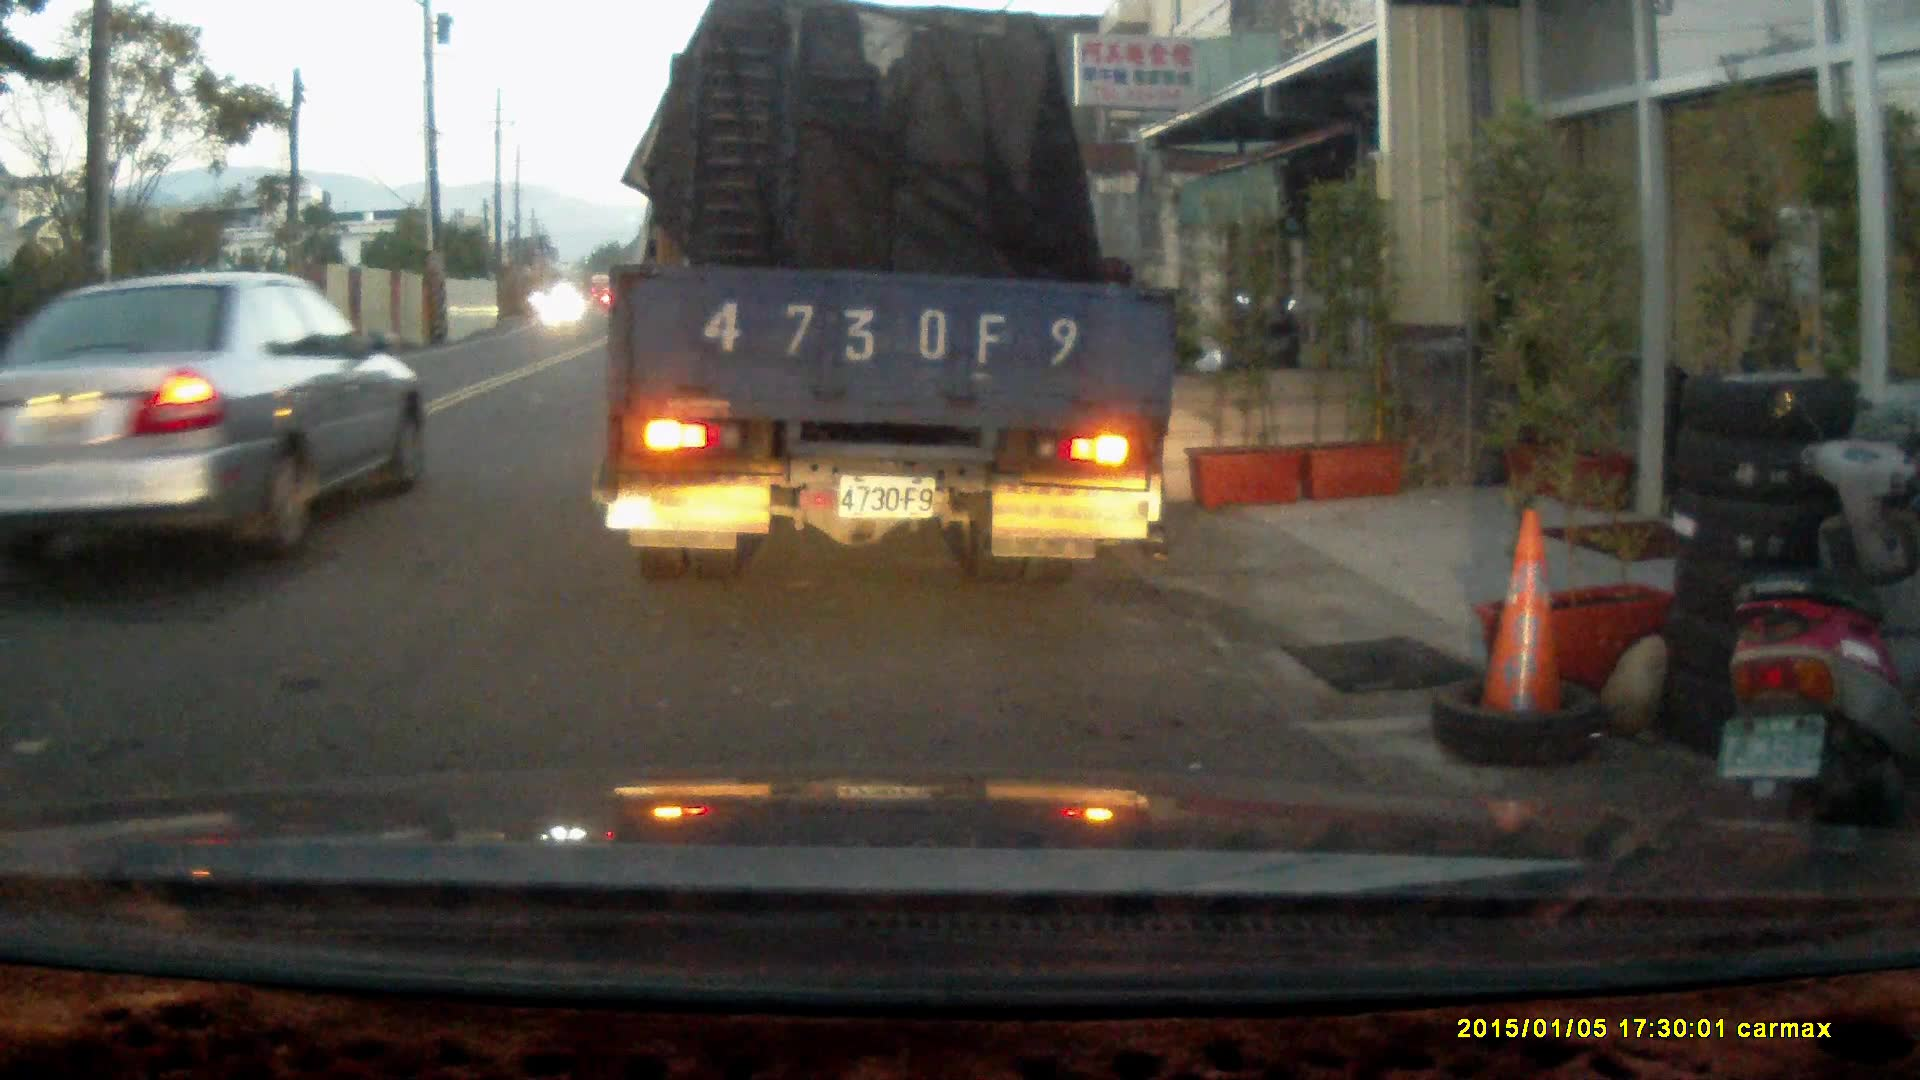pedestrian: (1727, 226, 1815, 476)
vehicle: (605, 23, 1188, 572), (1, 272, 428, 571)
